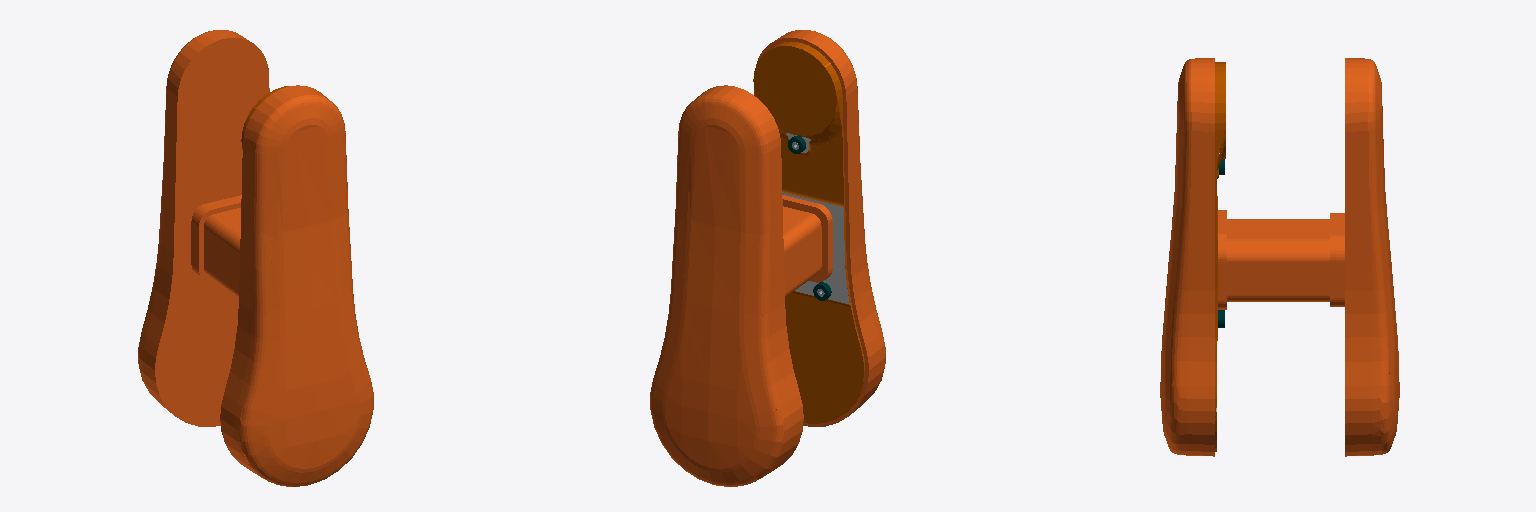
3 views of the same model, side by side, from view 1: azimuth 30°, elevation 25°; view 2: azimuth 150°, elevation 25°; view 3: azimuth 270°, elevation 25° (orthographic).
Visible parts, largest first — view 1: NONE_DC_Shell; view 2: NONE_DC_Shell; view 3: NONE_DC_Shell.
Boxes of the visible parts, <box> form: NONE_DC_Shell: <box>138,30,373,486</box>; NONE_DC_Shell: <box>650,30,885,486</box>; NONE_DC_Shell: <box>1160,58,1399,456</box>.
Size of the model in its own units: 145 by 391 by 219.